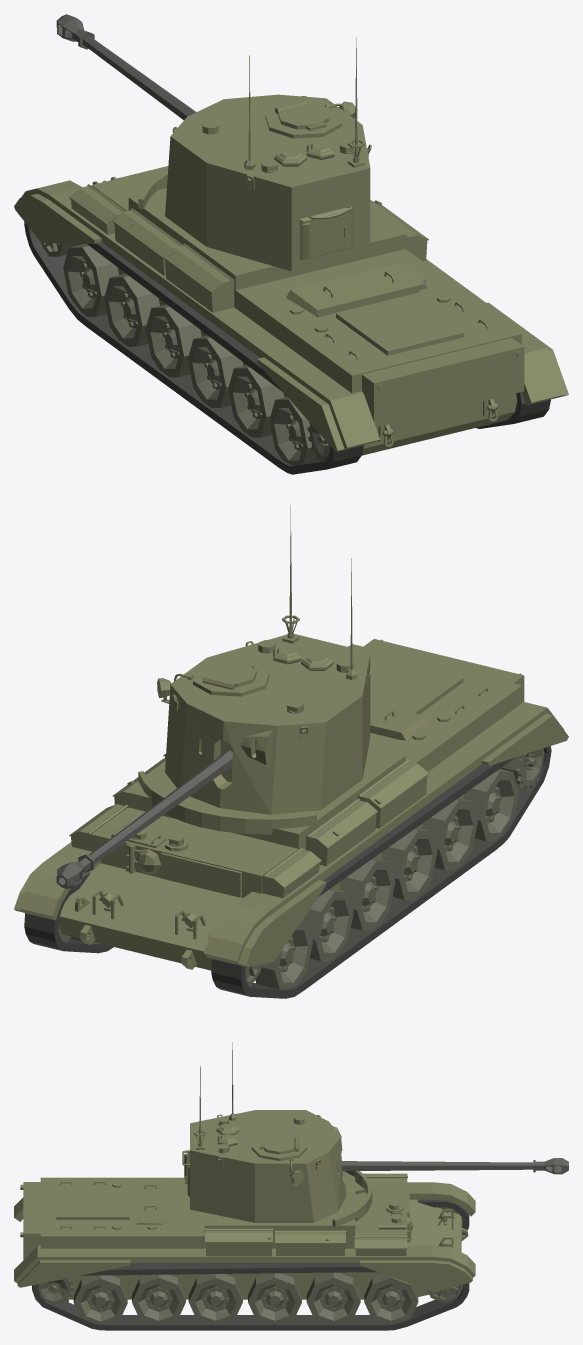
3 renders of one model, top to bottom at view 1: azimuth 30°, elevation 25°; view 2: azimuth 150°, elevation 25°; view 3: azimuth 270°, elevation 25°, orthographic. The views are drawn at different scales.
Parts seen in each view (by area): view 1: Hull, Turret, Track.0, Wheel.4, Wheel.6, Wheel.2, Wheel.10, Wheel.8, Barrel, Wheel.12, Track.1; view 2: Hull, Turret, Track.0, Barrel, Wheel.6, Wheel.8, Wheel.10, Wheel.4, Wheel.12, Wheel.2, Track.1, Wheel.14; view 3: Hull, Turret, Track.1, Wheel.5, Wheel.7, Wheel.9, Barrel, Wheel.11, Wheel.13, Wheel.3, Wheel.15, Track.0.
Boxes of the visible parts, x1,y1,x2,y2 form: Hull: (14,166,568,455); Turret: (165,37,371,271); Track.0: (24,222,363,474); Wheel.4: (104,273,159,346); Wheel.6: (145,304,201,377); Wheel.2: (63,243,118,316); Wheel.10: (228,365,284,437); Wheel.8: (187,335,243,407); Barrel: (56,14,196,119); Wheel.12: (269,397,319,465); Track.1: (476,392,550,428); Hull: (14,639,568,970); Turret: (157,505,371,814); Track.0: (211,746,551,998); Barrel: (56,750,232,889); Wheel.6: (339,857,395,930); Wheel.8: (381,827,437,899); Wheel.10: (422,798,477,870); Wheel.4: (302,888,353,961); Wheel.12: (463,769,518,841); Wheel.2: (255,920,312,989); Track.1: (24,872,113,953); Wheel.14: (500,748,544,790); Hull: (14,1171,475,1299); Turret: (182,1042,346,1222); Track.1: (32,1263,469,1330); Wheel.5: (306,1272,360,1324); Wheel.7: (248,1273,301,1324); Wheel.9: (188,1274,242,1324); Barrel: (341,1158,568,1174); Wheel.11: (132,1274,185,1324); Wheel.13: (73,1275,127,1324); Wheel.3: (364,1274,418,1324); Wheel.15: (38,1278,73,1306); Track.0: (417,1199,469,1234).
Bounding box in the file's own units: 3.21 × 4.75 × 9.43.
